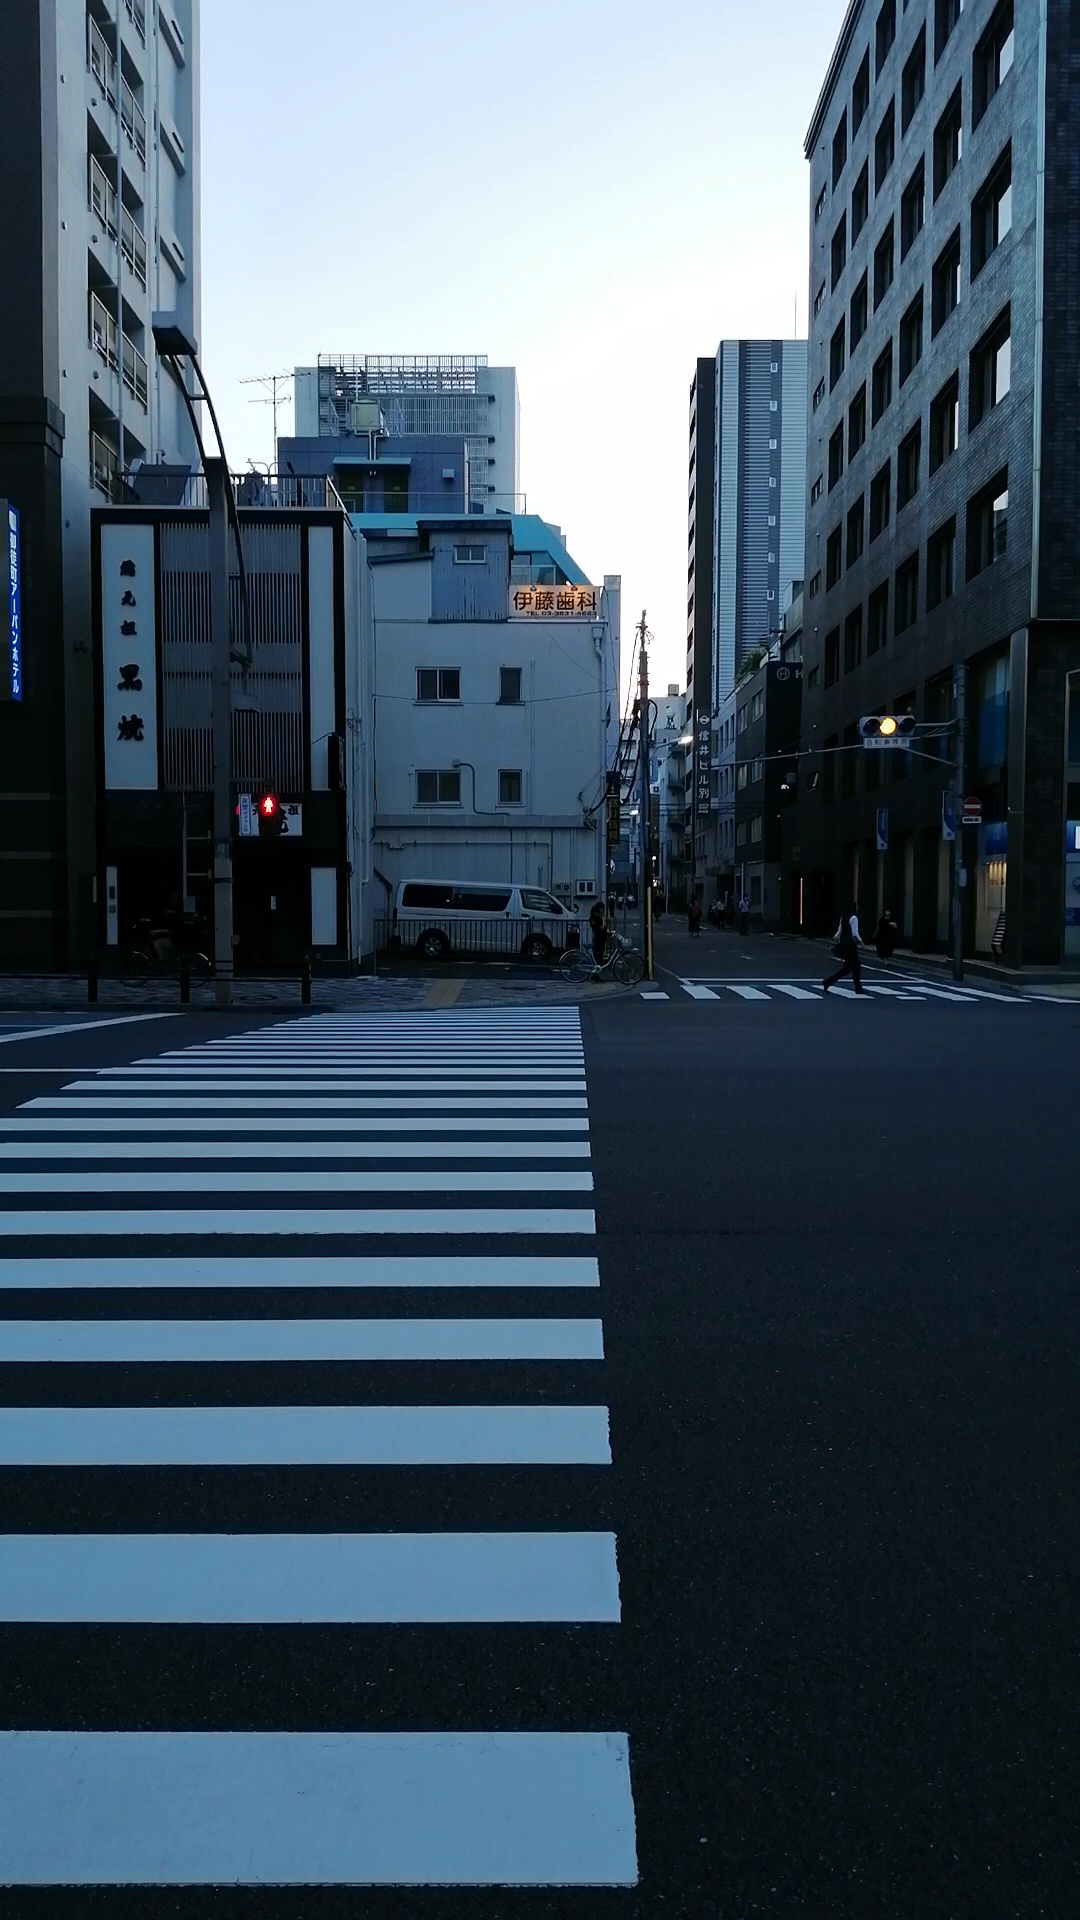red: (257, 790, 281, 841)
